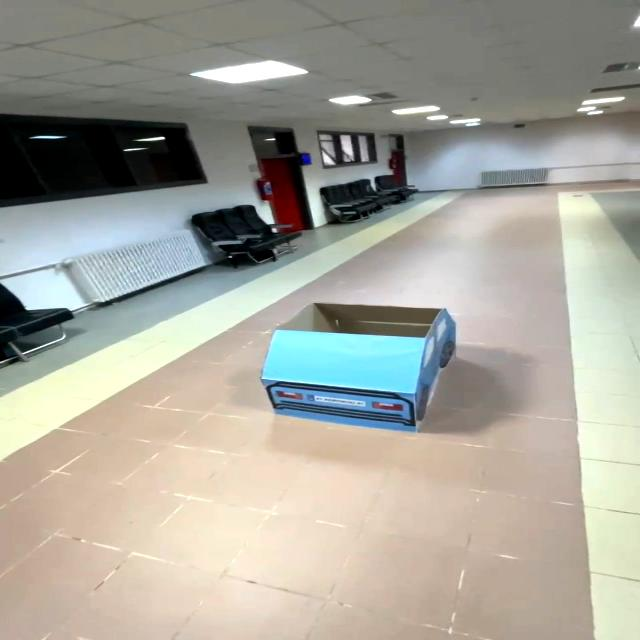blue_car: (231, 289, 468, 444)
